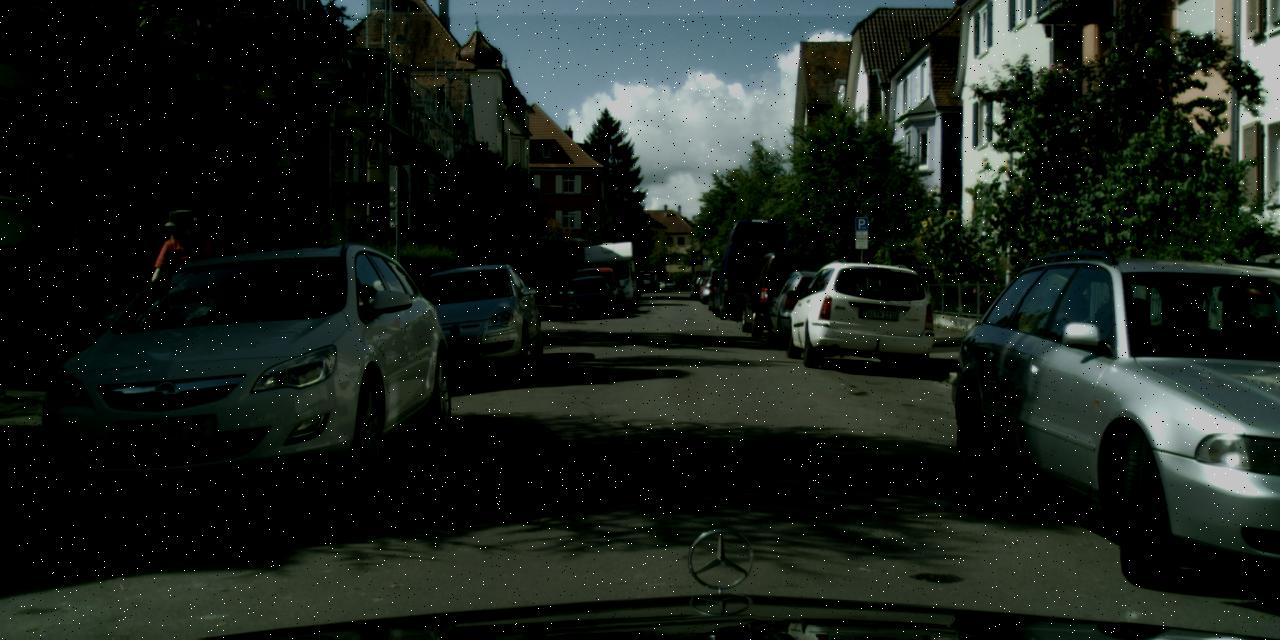ped: (148, 210, 214, 372)
